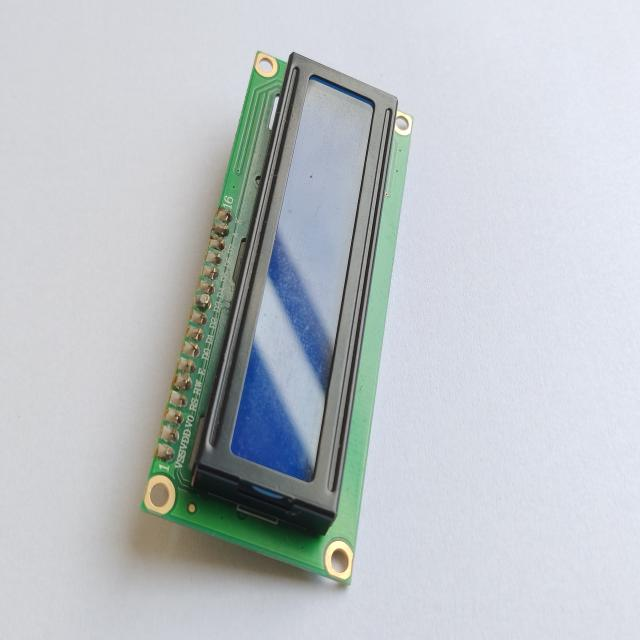lcd: (140, 48, 413, 586)
